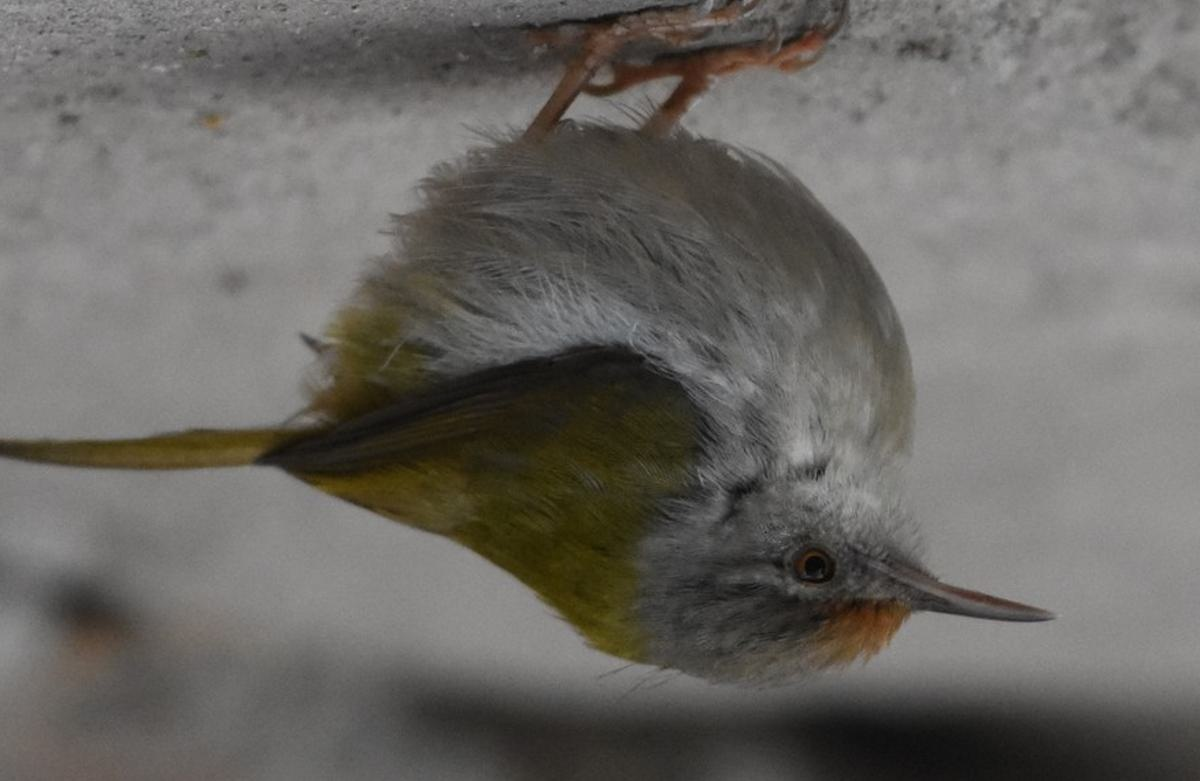tailorbird: (30, 61, 1054, 713)
